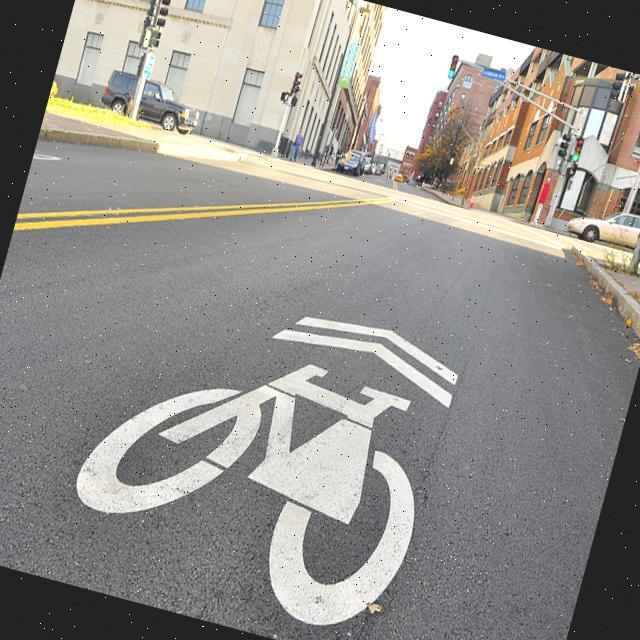fire_hydrant: (468, 198, 472, 206)
